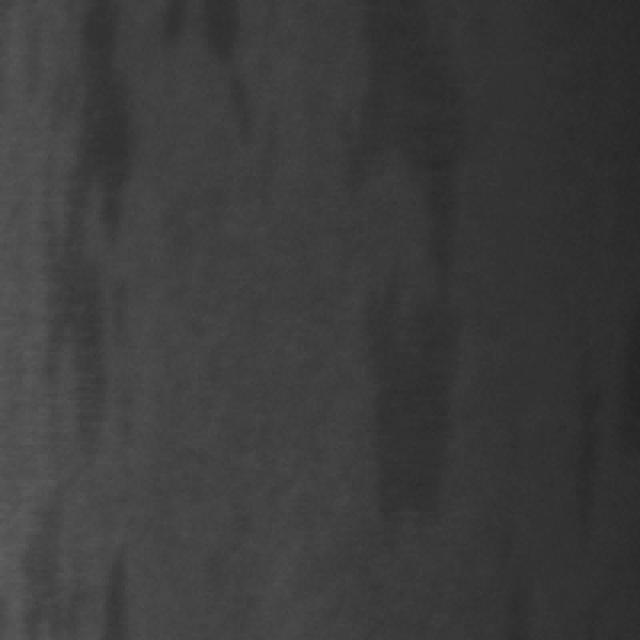inclusion: (355, 0, 467, 534), (52, 3, 150, 479), (204, 1, 270, 152), (86, 541, 148, 640)
